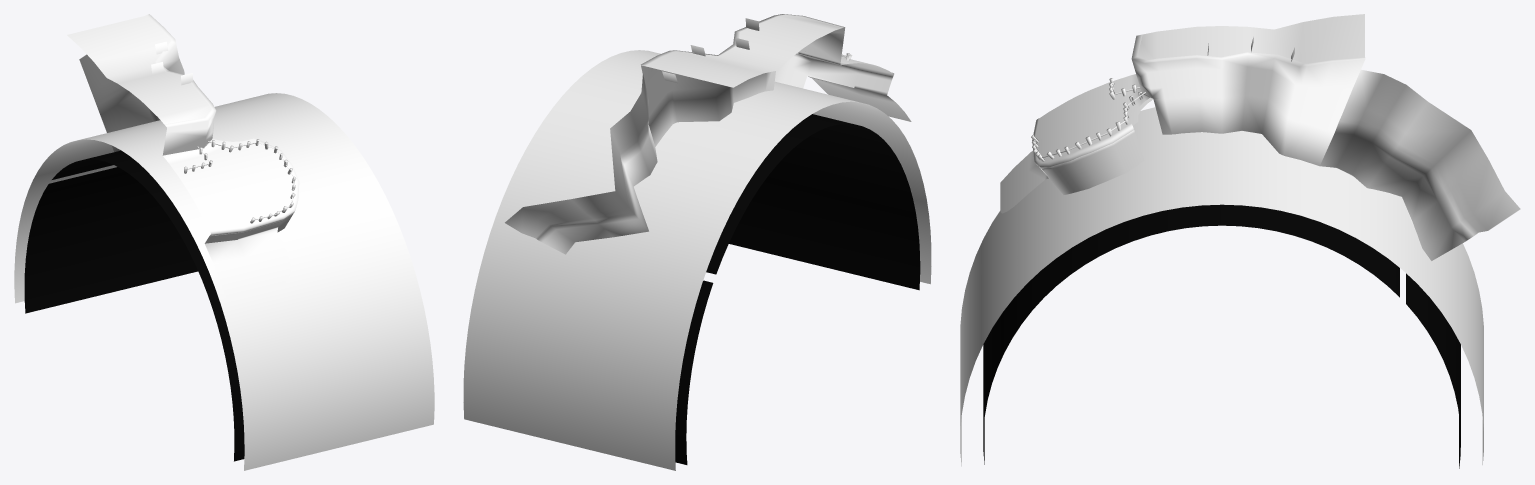
File: grd_Dtn_ne_1.dae
3 views of the same model, side by side, from view 1: azimuth 30°, elevation 25°; view 2: azimuth 150°, elevation 25°; view 3: azimuth 270°, elevation 25° (orthographic). The views are drawn at different scales.
Visible parts, largest first — view 1: grd_Dtn_ne_1; view 2: grd_Dtn_ne_1; view 3: grd_Dtn_ne_1.
Boxes of the visible parts, bbox=[...] form: grd_Dtn_ne_1: bbox=[14, 14, 434, 470]; grd_Dtn_ne_1: bbox=[463, 14, 931, 470]; grd_Dtn_ne_1: bbox=[960, 14, 1520, 468].
Bounding box in the file's own units: 692 × 1077 × 1553.
9 materials, 1 textured.
